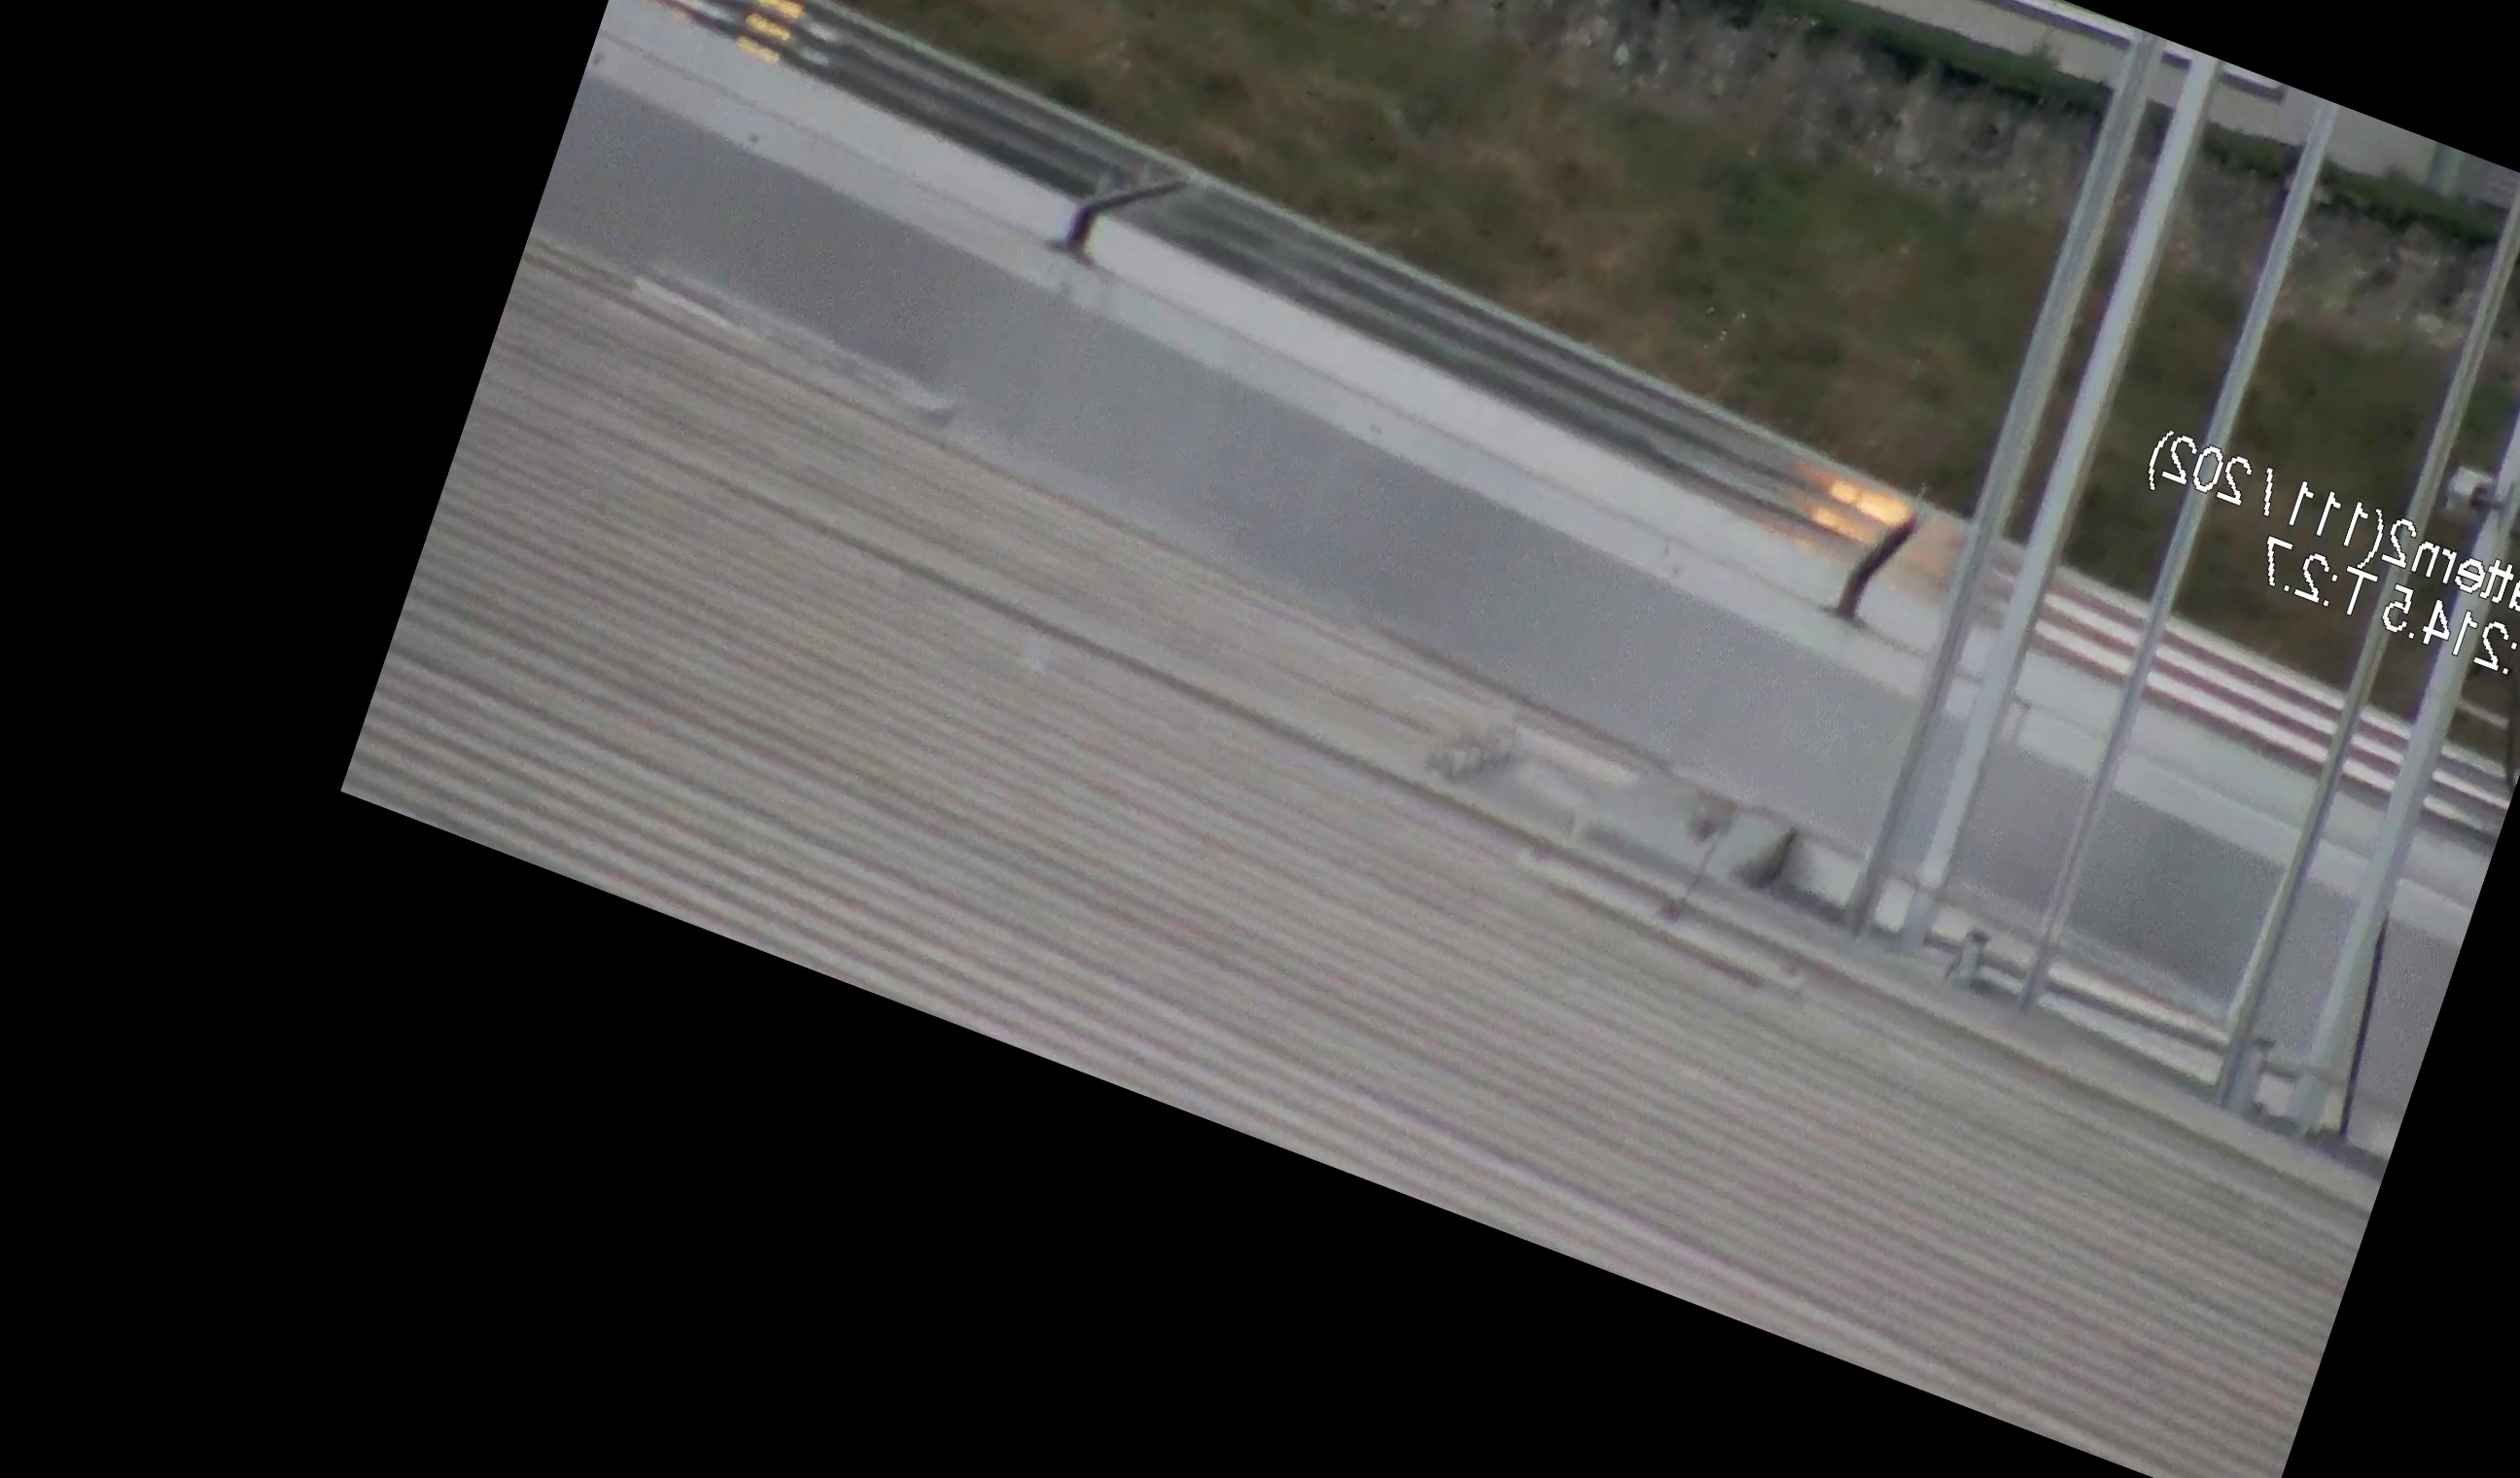Other: (1815, 479, 1934, 646)
